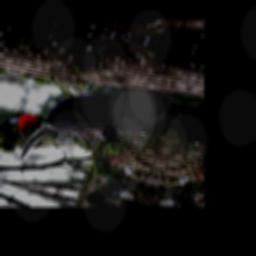Woodpecker: (3, 71, 182, 183)
